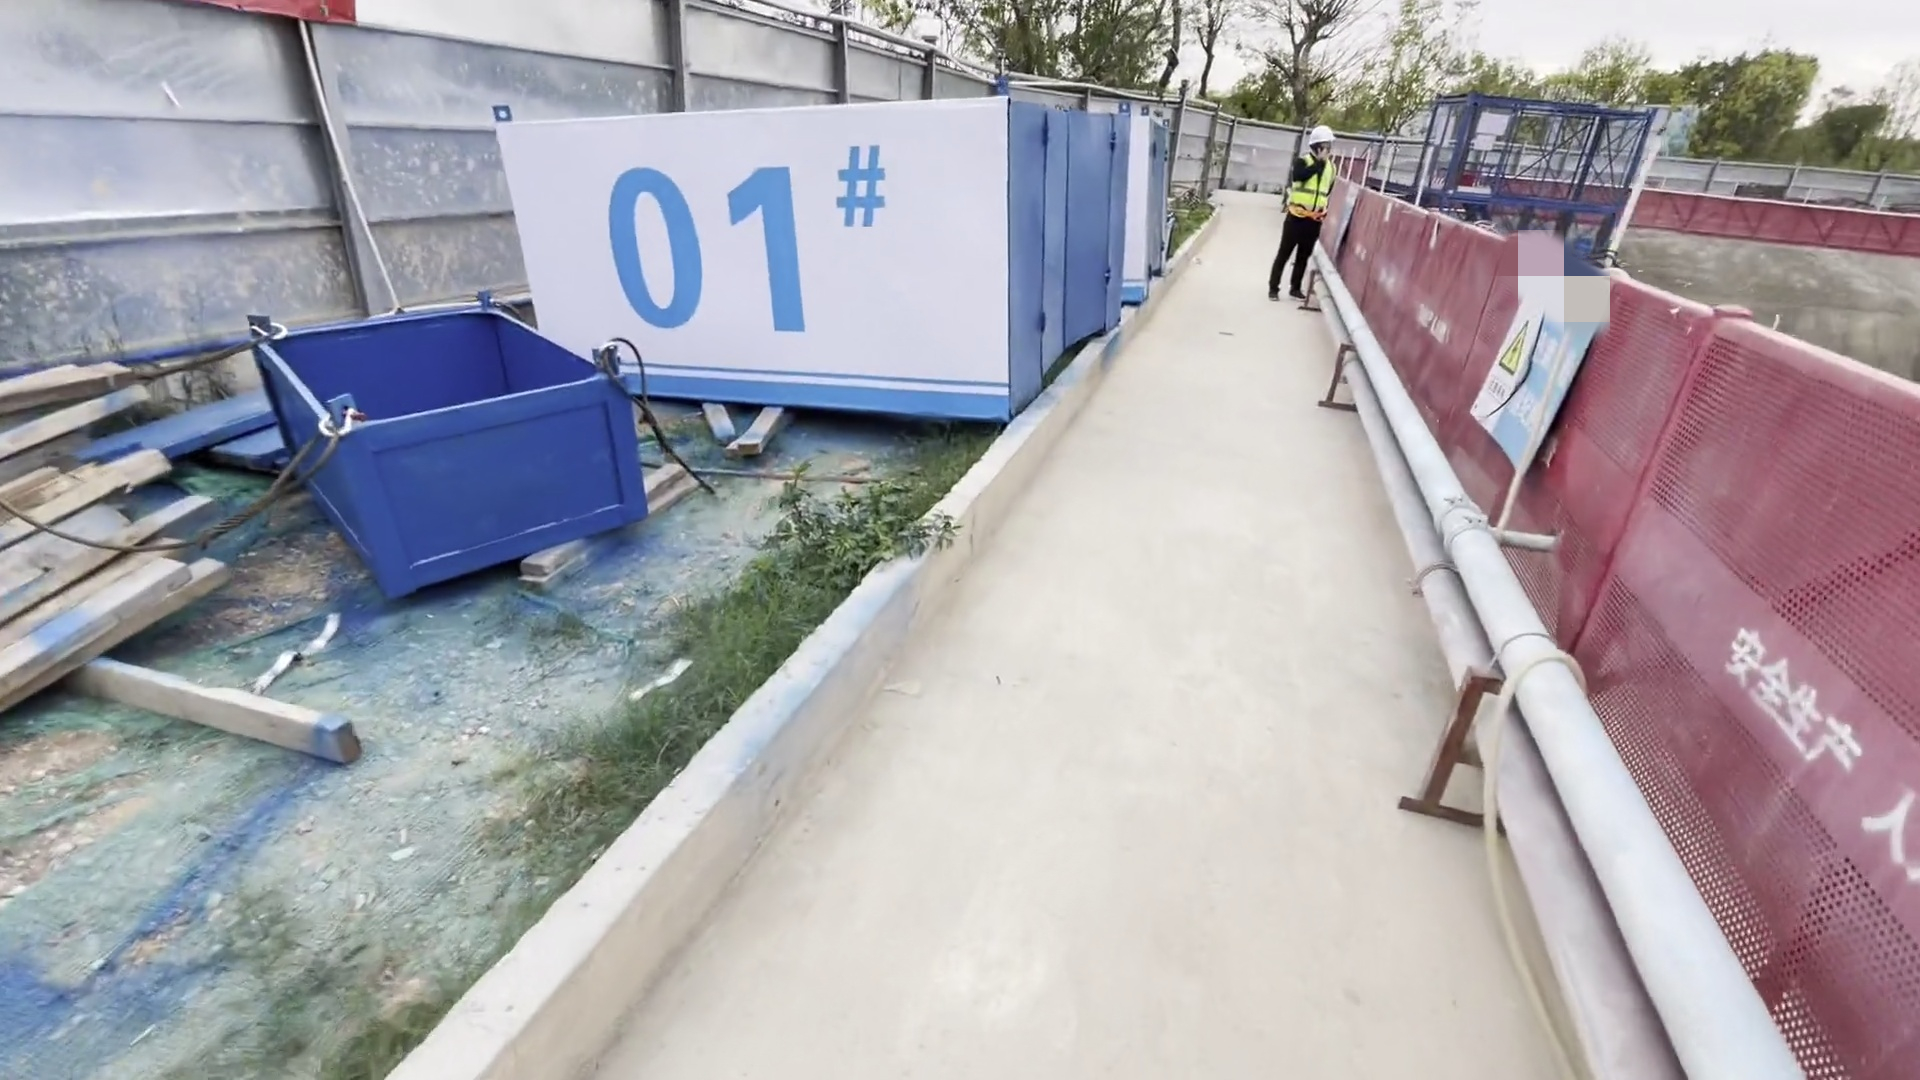fence: (1313, 120, 1920, 1063)
helmet: (1308, 124, 1335, 148)
hopper: (238, 275, 672, 602)
person: (1249, 113, 1344, 316)
slogan: (1474, 254, 1660, 479)
vest: (1286, 150, 1342, 226)
wood: (5, 338, 231, 718)
